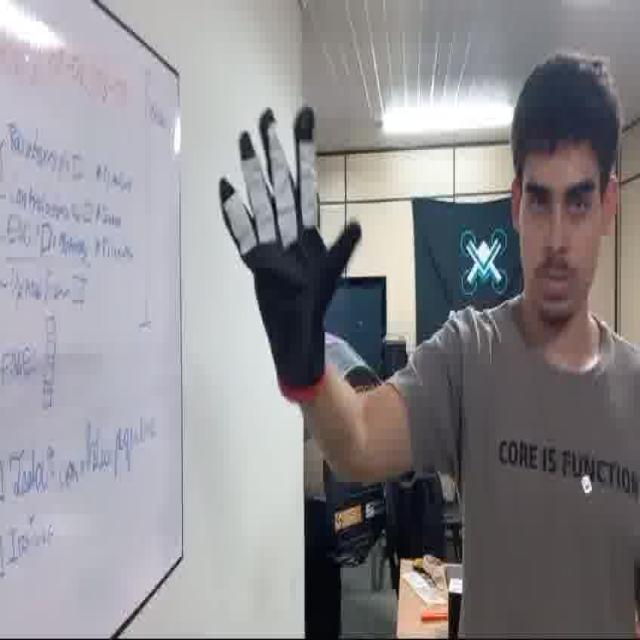Gloves: (219, 106, 363, 408)
